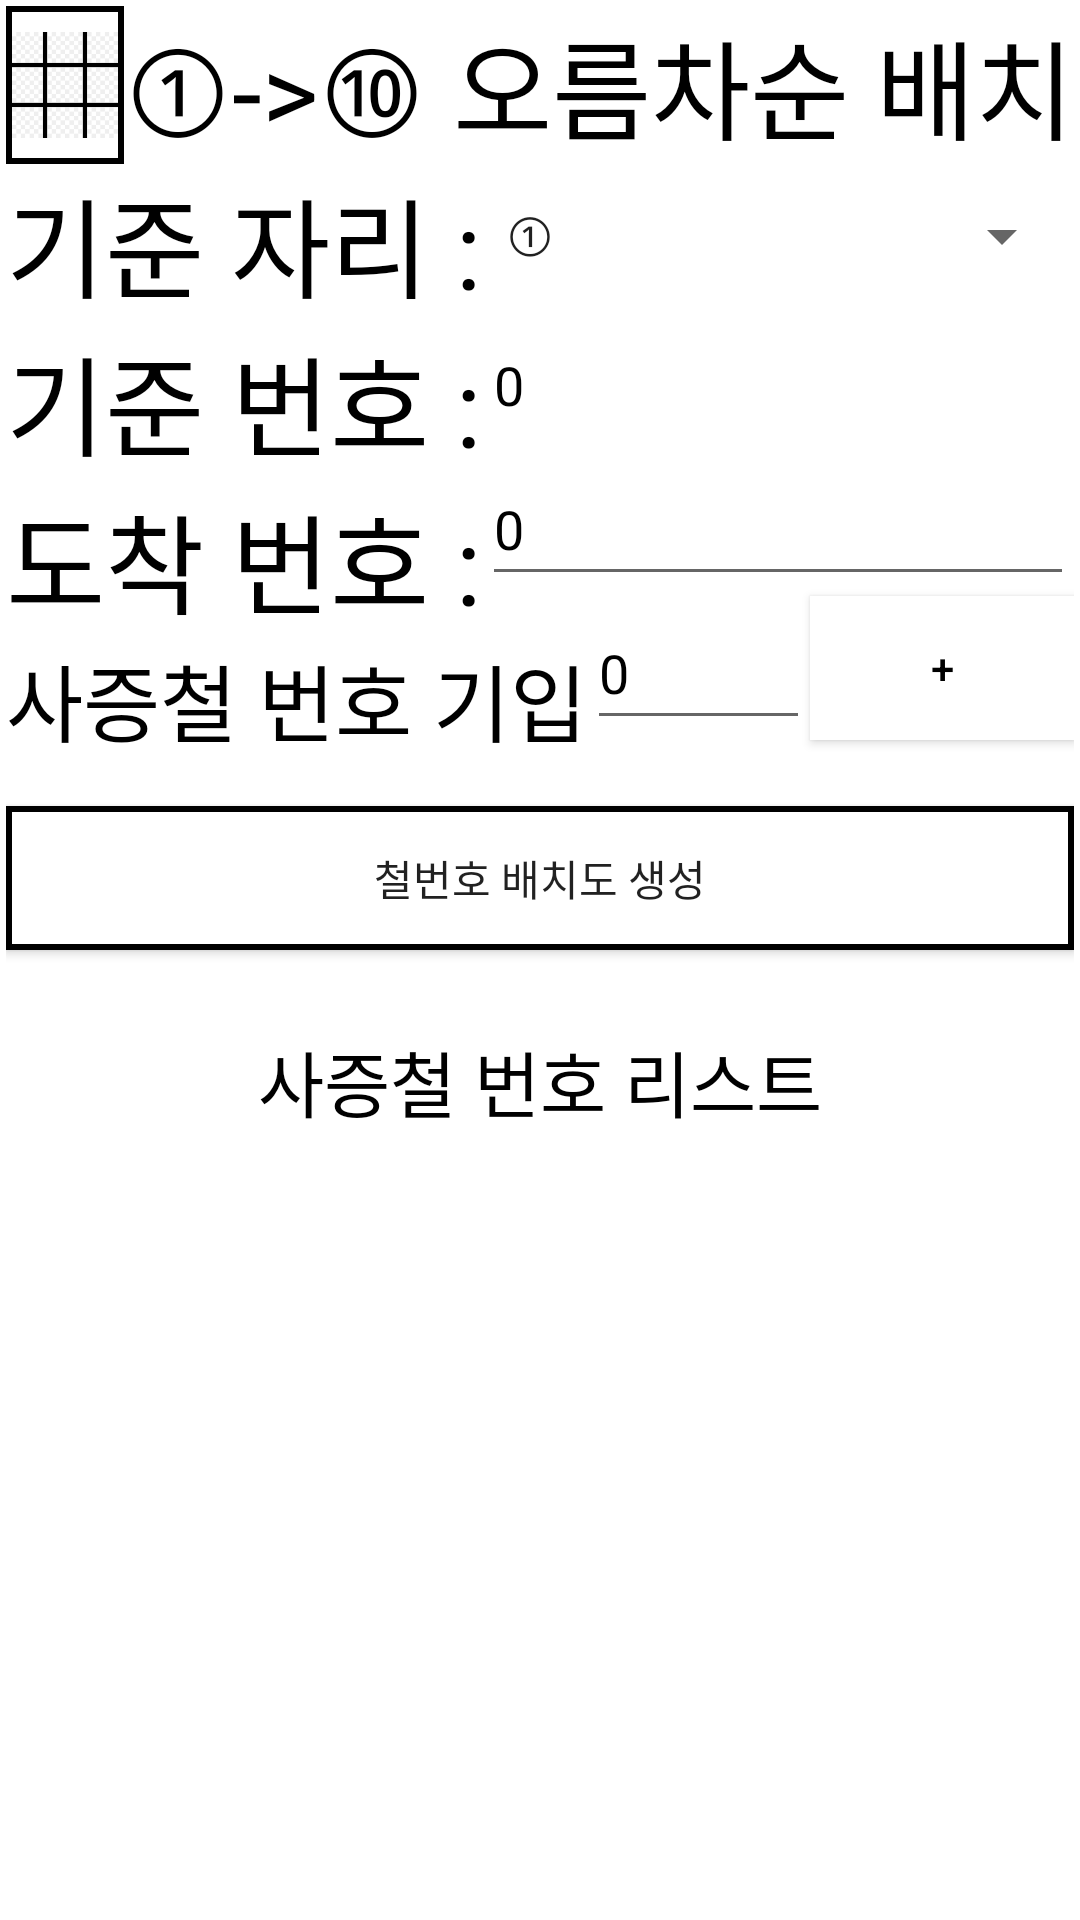

Screen size 1080px×1920px. Icon name, then its box in pixels as (x1=x1, y1=y1, x2=x2, y2=y2):
table: (x1=6, y1=6, x2=124, y2=164)
